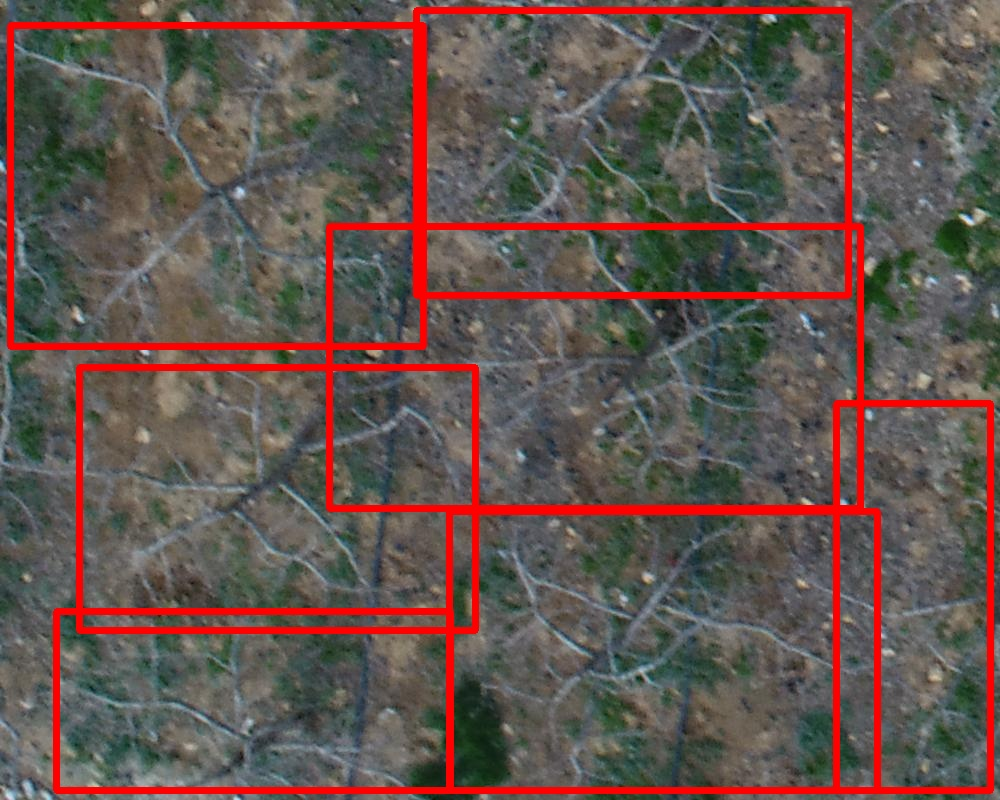apple: (329, 226, 860, 508), (10, 25, 423, 346), (416, 10, 848, 295), (449, 511, 877, 790), (79, 367, 475, 630), (56, 611, 450, 790), (836, 403, 990, 790)
